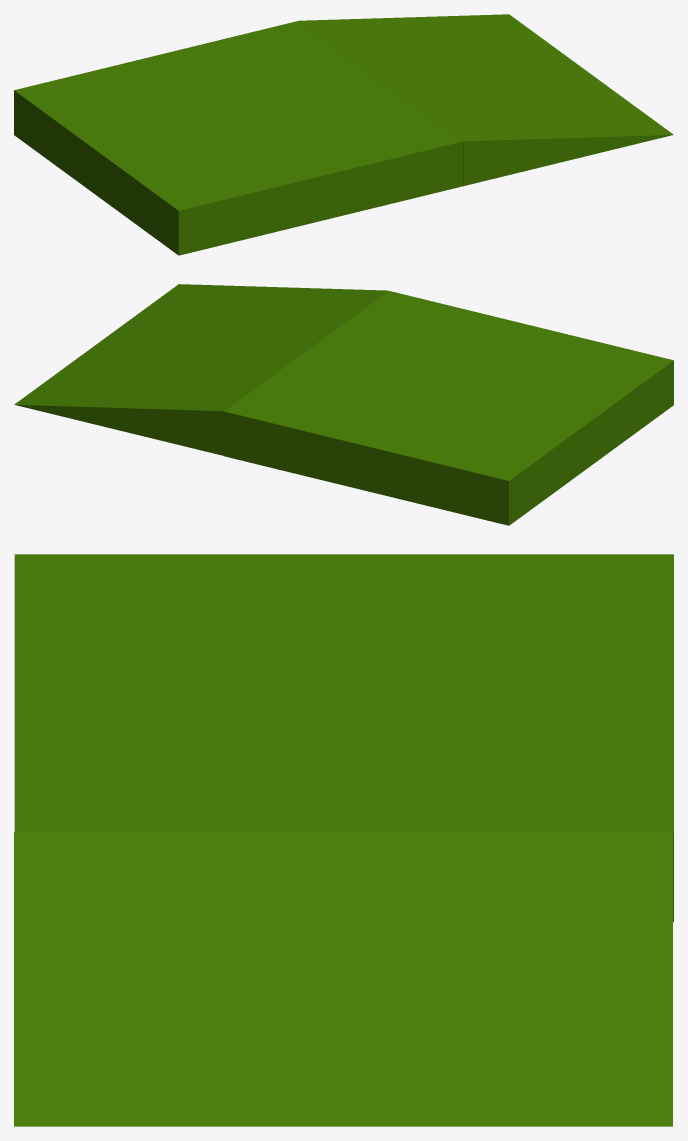
Rendered from block_w_slope.fbx.
The picture shows the model from 3 angles, top to bottom: view 1: azimuth 30°, elevation 25°; view 2: azimuth 150°, elevation 25°; view 3: azimuth 270°, elevation 25°; orthographic projection. The views are drawn at different scales.
Visible parts, largest first — view 1: Plane; view 2: Plane; view 3: Plane.
Boxes of the visible parts, x1,y1,x2,y2 form: Plane: (14,14,673,255); Plane: (14,284,673,525); Plane: (14,554,673,1126).
Bounding box in the file's own units: 3469 × 301 × 2001.
